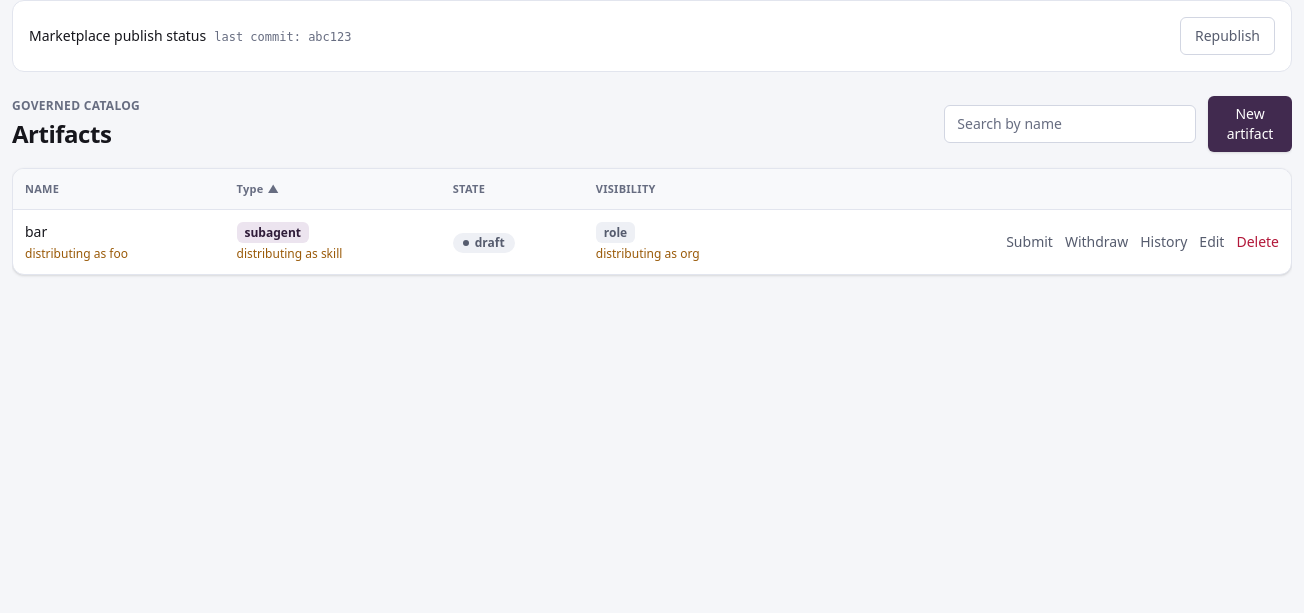
Test case: the edit form names every field developers still receive
Click the button "Edit". click: (1212, 242)
box: [1199, 232, 1224, 252]
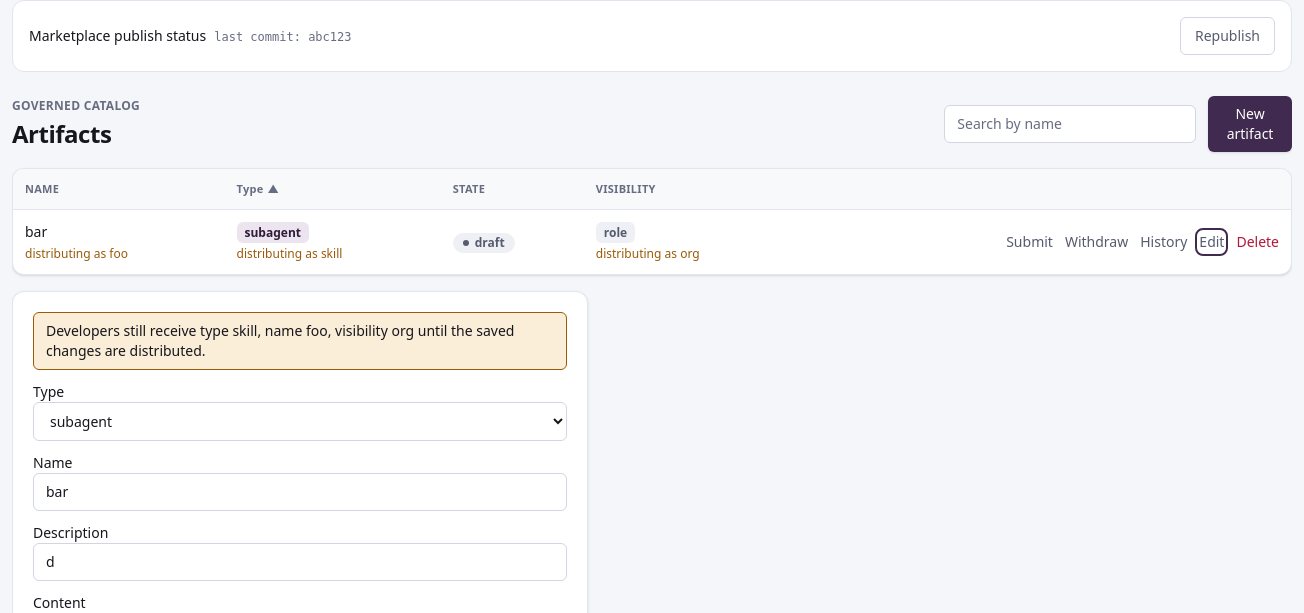
Now the element that starts with "Developers still receive" shows "Developers still receive type skill, name foo, visibility org until the saved changes are distributed", box [33, 312, 567, 370]
